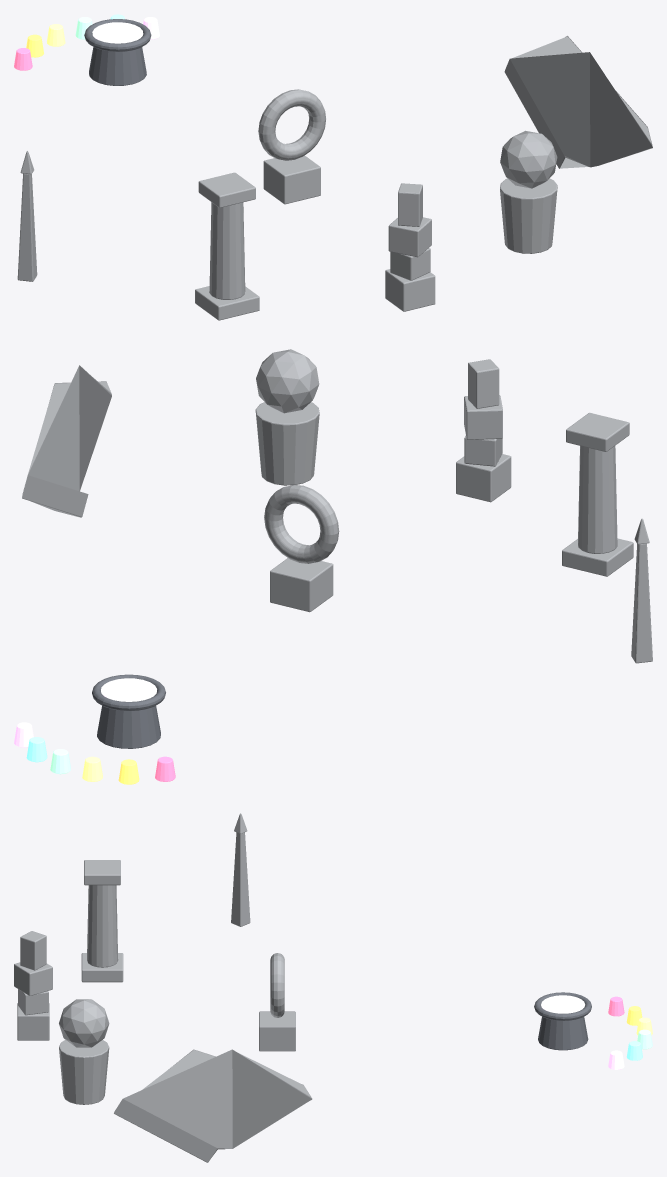
Rendered from colour-garden.glb.
3 views of the same model, one above another, from view 1: azimuth 30°, elevation 25°; view 2: azimuth 150°, elevation 25°; view 3: azimuth 270°, elevation 25° (orthographic). The views are drawn at different scales.
Parts seen in each view (by area): view 1: statue_twistprism, statue_orbpedestal, statue_column, statue_ringbase, statue_totem, cauldron, statue_obelisk, cauldron_paint; view 2: statue_twistprism, statue_orbpedestal, statue_column, statue_ringbase, statue_totem, cauldron, statue_obelisk, cauldron_paint; view 3: statue_twistprism, statue_orbpedestal, statue_column, statue_totem, statue_ringbase, cauldron, statue_obelisk, cauldron_paint.
Part boxes in pixels (<box>): statue_twistprism: <box>504,36,652,168</box>; statue_orbpedestal: <box>500,130,557,253</box>; statue_column: <box>195,172,259,320</box>; statue_ringbase: <box>258,89,325,204</box>; statue_totem: <box>385,183,435,311</box>; cauldron: <box>84,19,151,85</box>; statue_obelisk: <box>17,151,37,281</box>; cauldron_paint: <box>92,22,143,43</box>; statue_twistprism: <box>22,365,111,517</box>; statue_orbpedestal: <box>255,349,319,485</box>; statue_column: <box>562,412,633,576</box>; statue_ringbase: <box>264,485,339,612</box>; statue_totem: <box>456,359,511,502</box>; cauldron: <box>92,674,165,748</box>; statue_obelisk: <box>631,518,652,663</box>; cauldron_paint: <box>101,678,156,701</box>; statue_twistprism: <box>114,1049,312,1162</box>; statue_orbpedestal: <box>59,999,109,1104</box>; statue_column: <box>81,860,123,982</box>; statue_totem: <box>14,931,52,1040</box>; statue_ringbase: <box>259,953,295,1051</box>; cauldron: <box>534,992,591,1050</box>; statue_obelisk: <box>231,813,250,926</box>; cauldron_paint: <box>541,995,585,1013</box>.
Bounding box in the file's own units: 12.17 × 2.8 × 13.87.
